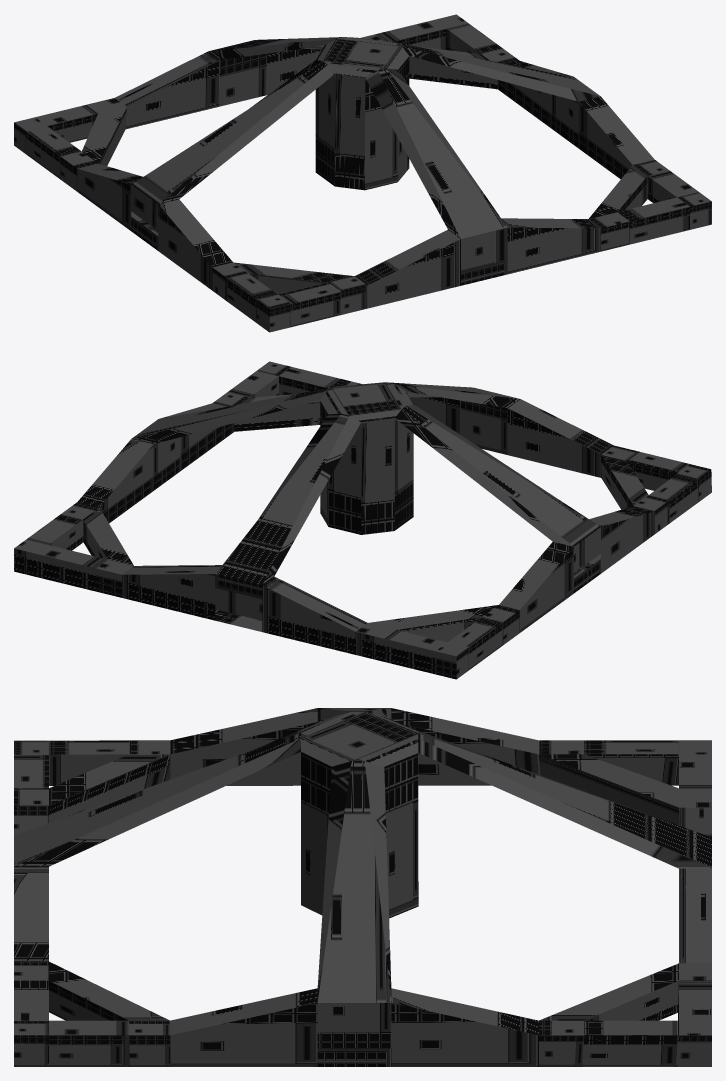
File: drill.obj
3 renders of one model, top to bottom at view 1: azimuth 30°, elevation 25°; view 2: azimuth 150°, elevation 25°; view 3: azimuth 270°, elevation 25°, orthographic. The views are drawn at different scales.
Parts seen in each view (by area): view 1: Cube_Cube.001; view 2: Cube_Cube.001; view 3: Cube_Cube.001.
Part boxes in pixels (x1=…): Cube_Cube.001: x1=14, y1=14, x2=711, y2=332; Cube_Cube.001: x1=14, y1=361, x2=711, y2=679; Cube_Cube.001: x1=14, y1=708, x2=711, y2=1066.
Bounding box in the file's own units: 4 × 1.15 × 4.
